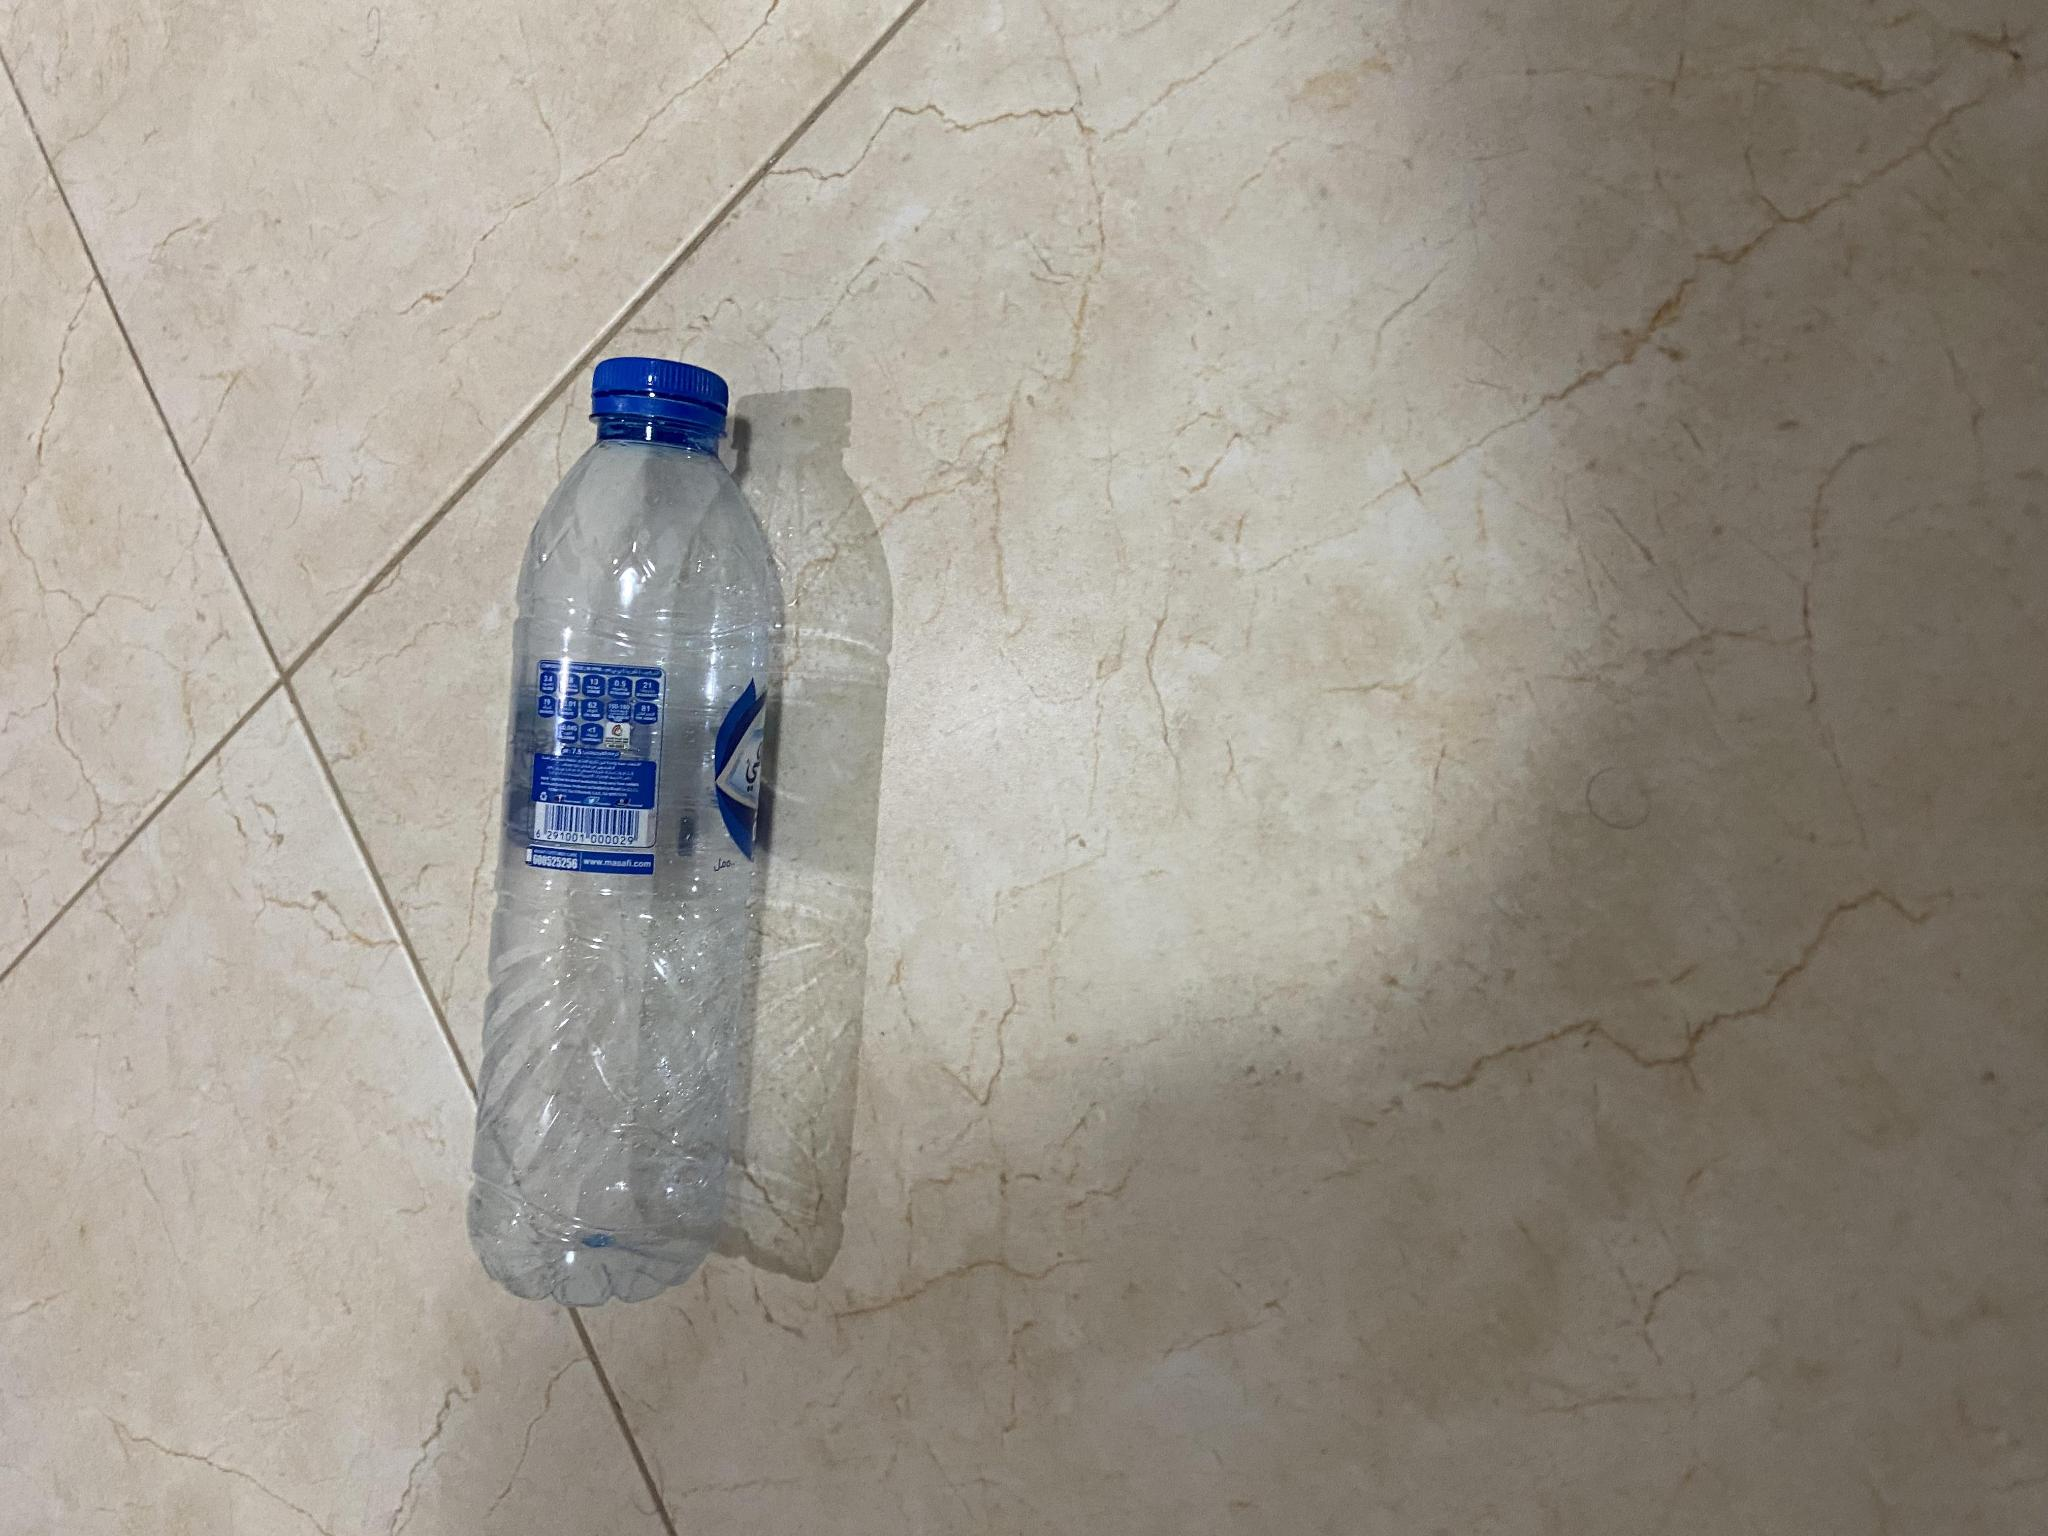bottle: (390, 360, 789, 1321)
